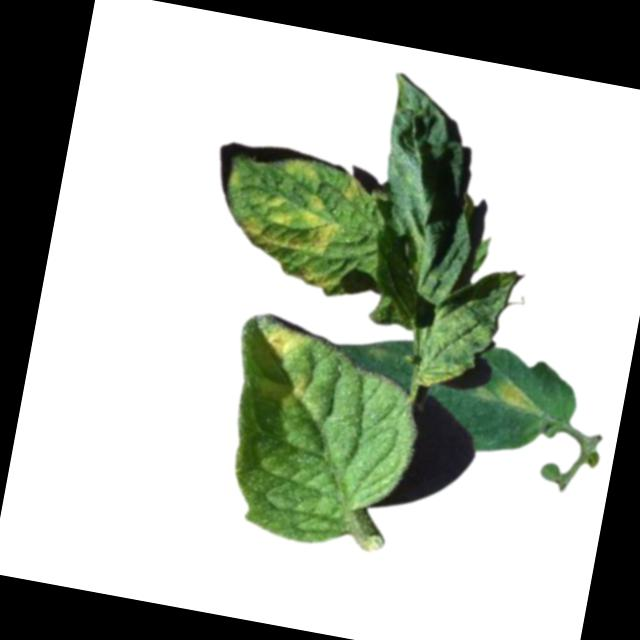Leaf_Mold: (231, 186, 341, 291), (470, 375, 548, 418), (267, 322, 310, 362), (280, 154, 322, 185), (291, 371, 314, 404), (342, 174, 367, 200)
